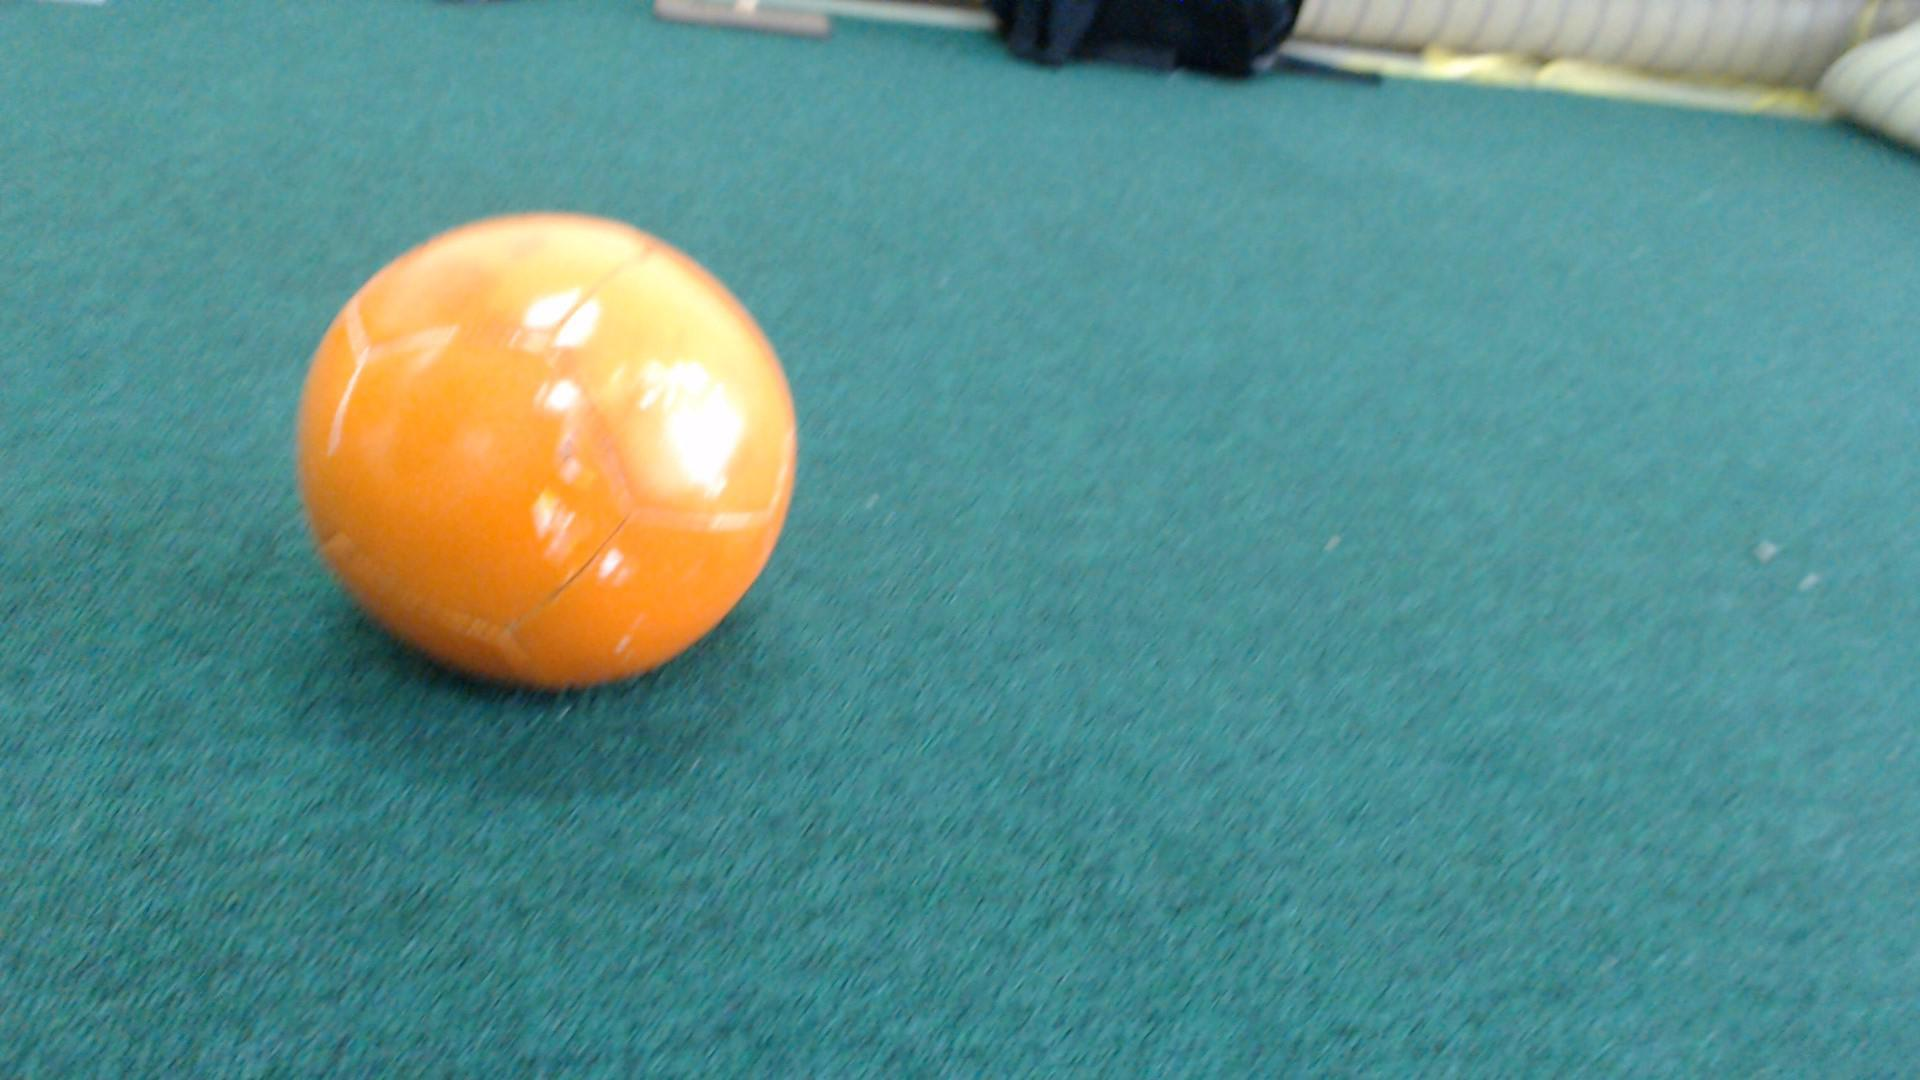bola: (280, 200, 810, 719)
